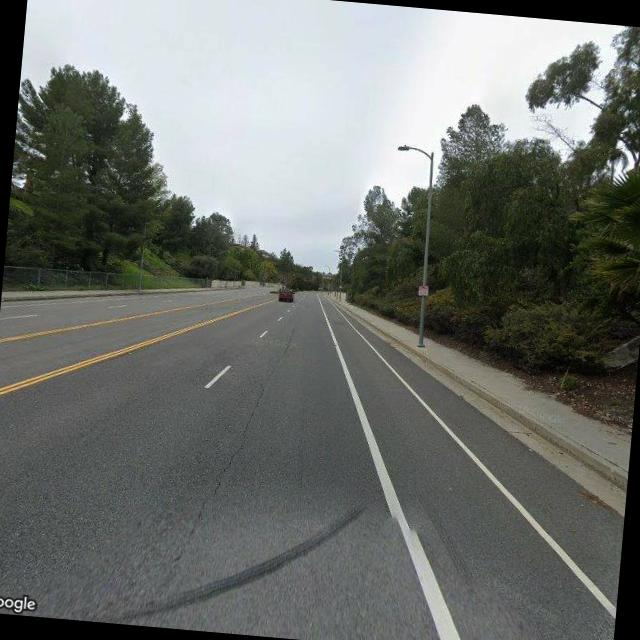pothole: (212, 378, 266, 495)
